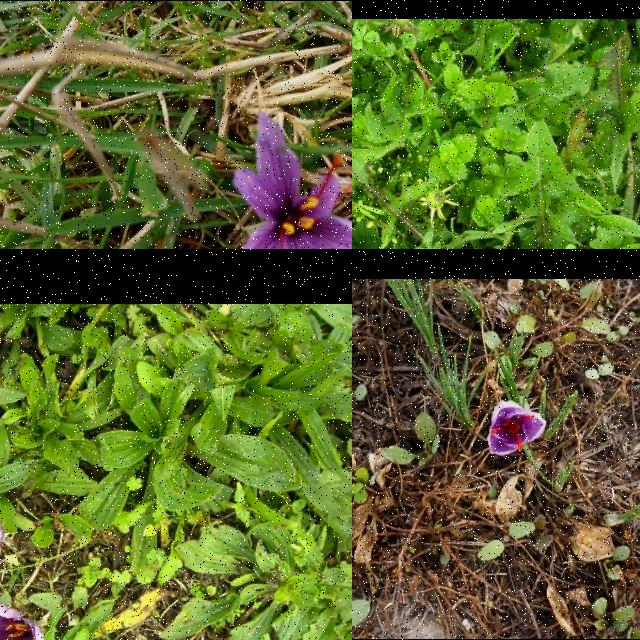flower: (229, 108, 352, 249), (488, 402, 546, 456), (0, 605, 45, 640)
